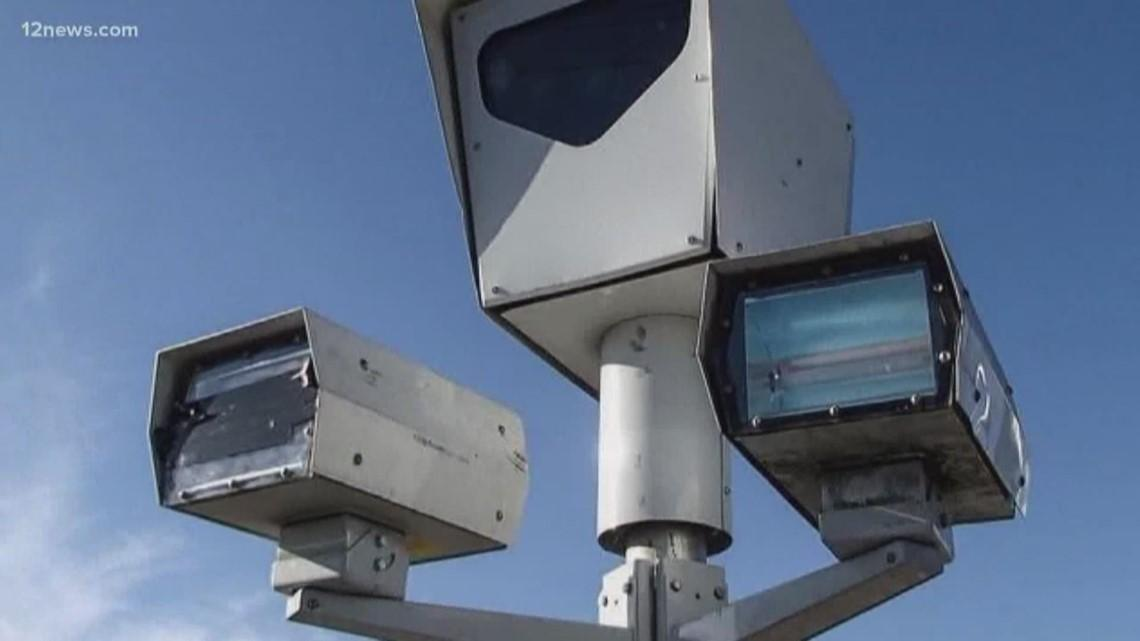Monitor: (393, 3, 858, 309), (121, 325, 560, 563), (723, 257, 950, 432)
